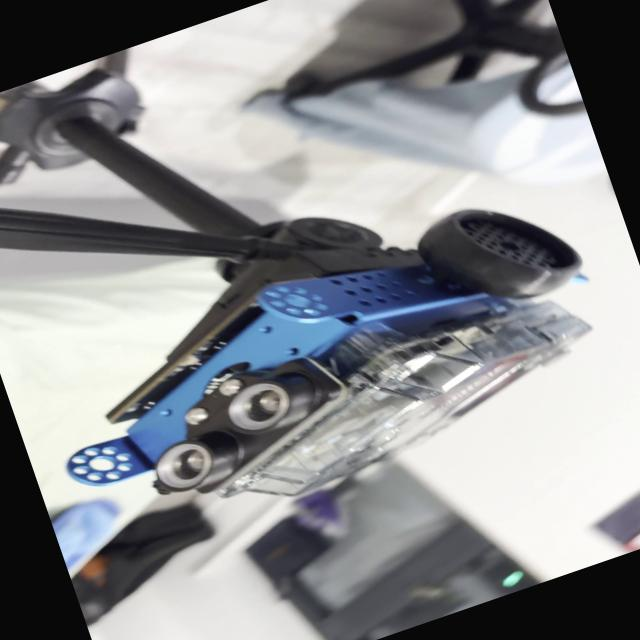mbot-detection: (12, 166, 633, 574)
